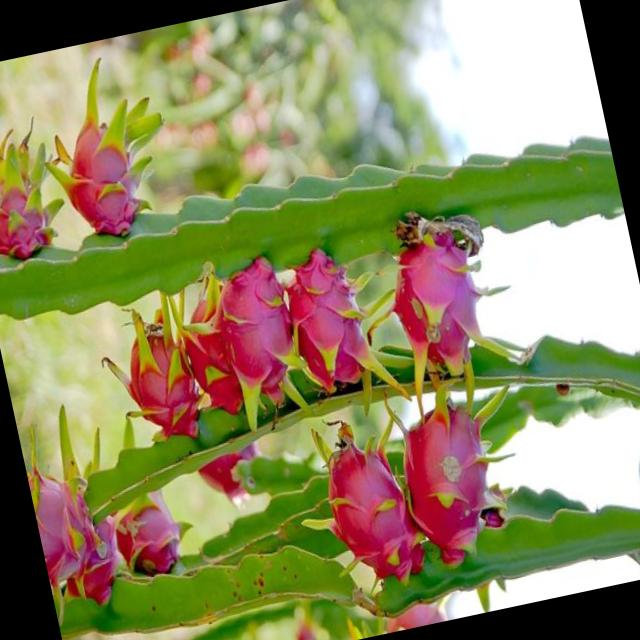Thanh Long: (369, 216, 527, 407), (45, 70, 186, 252), (386, 380, 528, 556), (306, 409, 423, 616), (192, 244, 324, 426), (276, 233, 402, 410), (18, 424, 118, 589), (99, 314, 202, 445), (0, 96, 76, 273), (170, 294, 248, 432), (112, 484, 195, 582), (51, 518, 127, 613), (180, 429, 261, 504)
